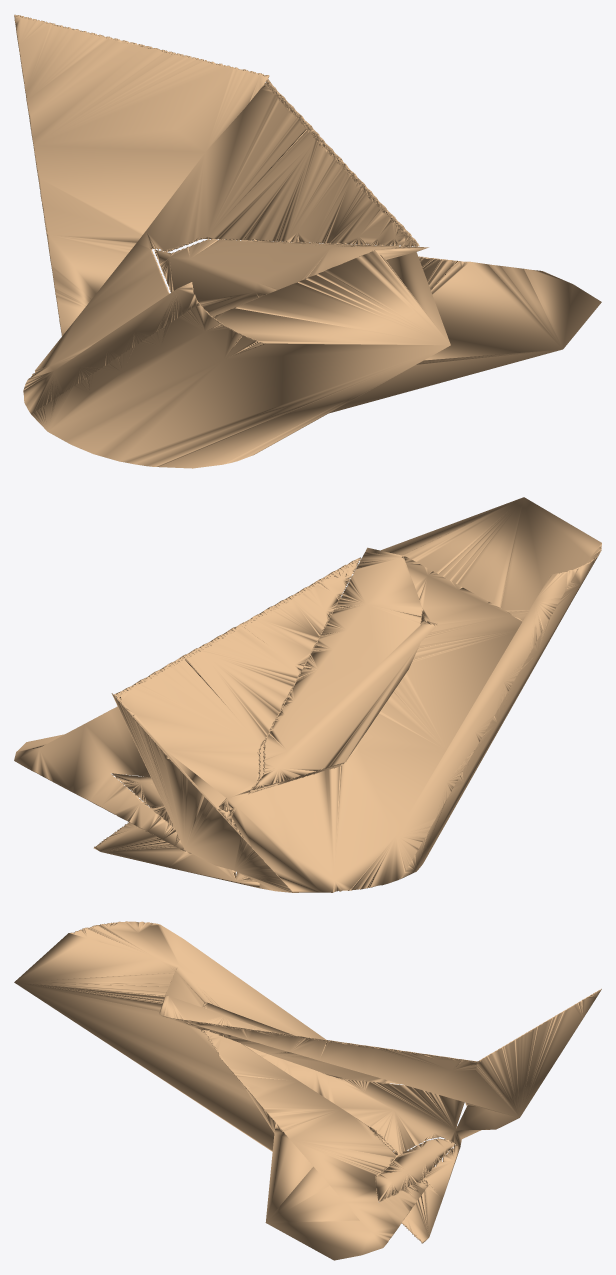
The model's file is GoldenBird.fbx.
3 views of the same model, one above another, from view 1: azimuth 30°, elevation 25°; view 2: azimuth 150°, elevation 25°; view 3: azimuth 270°, elevation 25° (orthographic). The views are drawn at different scales.
Visible parts, largest first — view 1: Cylinder; view 2: Cylinder; view 3: Cylinder.
Part boxes in pixels (x1,y1,x2,y2): Cylinder: (14, 14, 601, 468); Cylinder: (14, 497, 601, 892); Cylinder: (14, 921, 601, 1260).
Bounding box in the file's own units: 500 × 256 × 697.
